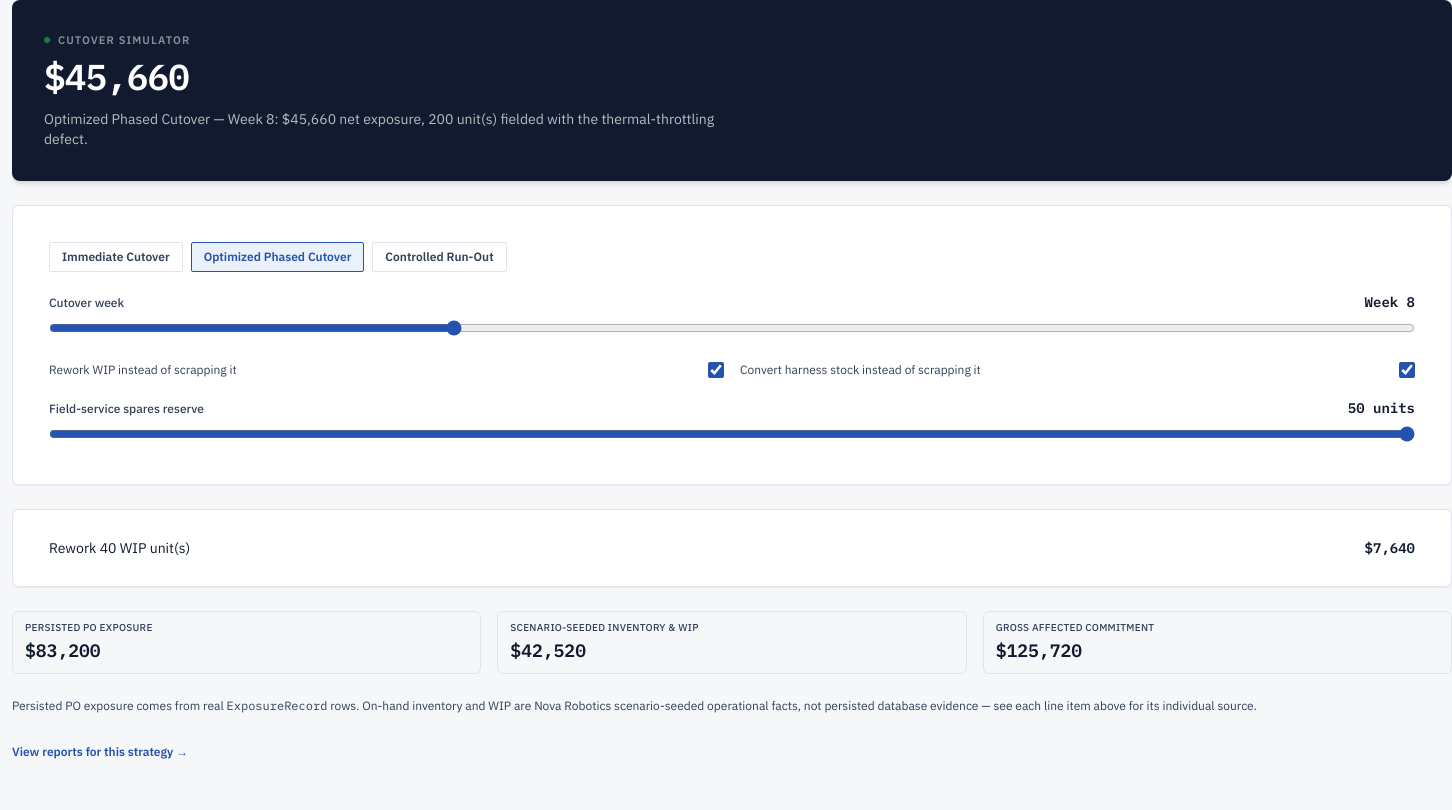
CutoverSimulatorClient › clears a prior error once a subsequent recalculation succeeds
Click the button "Immediate Cutover" at x=116, y=256, box [49, 242, 183, 272]
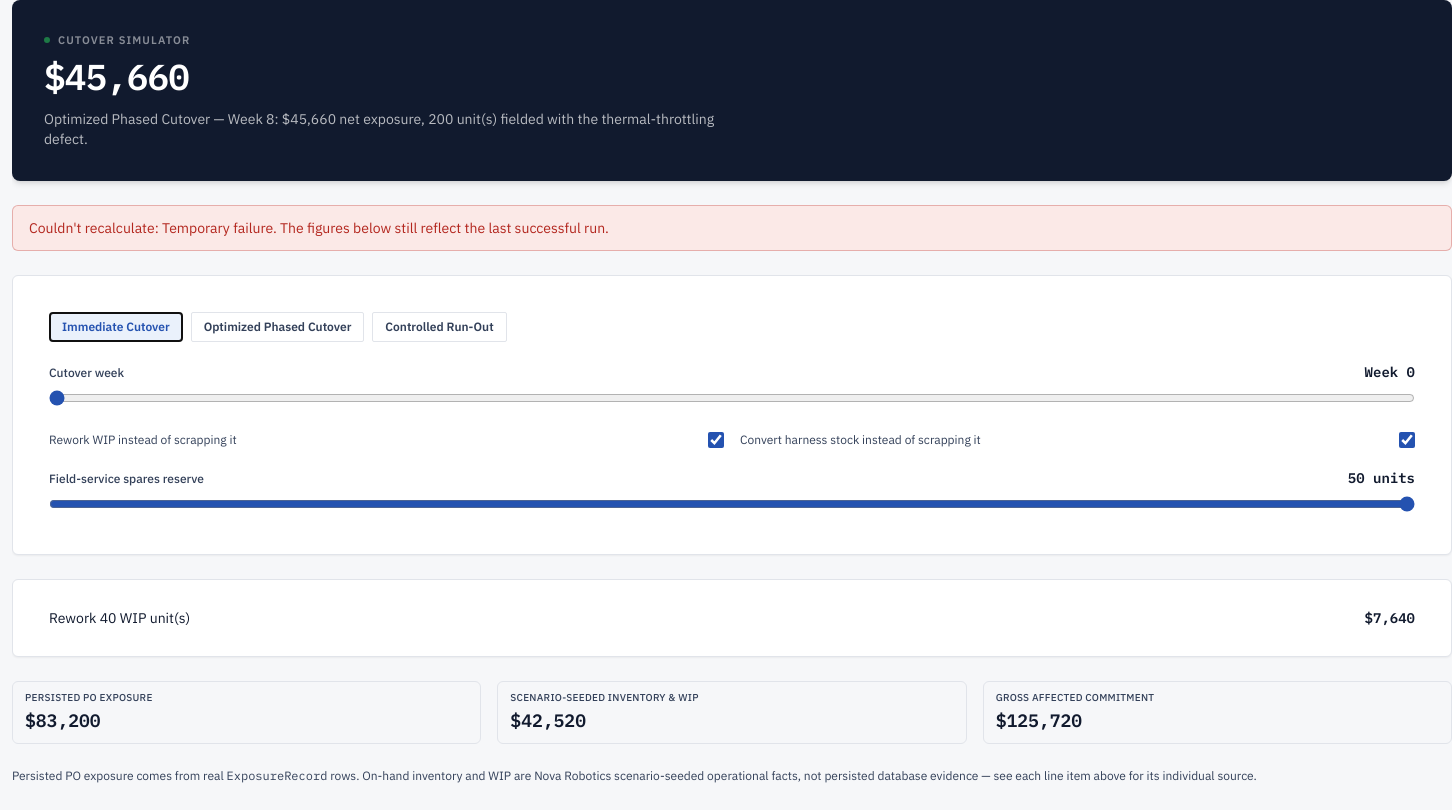
Expected: the text "Couldn't recalculate" is shown, [29, 218, 162, 236]
Click the button "Optimized Phased Cutover" at x=278, y=326, box [191, 312, 364, 342]
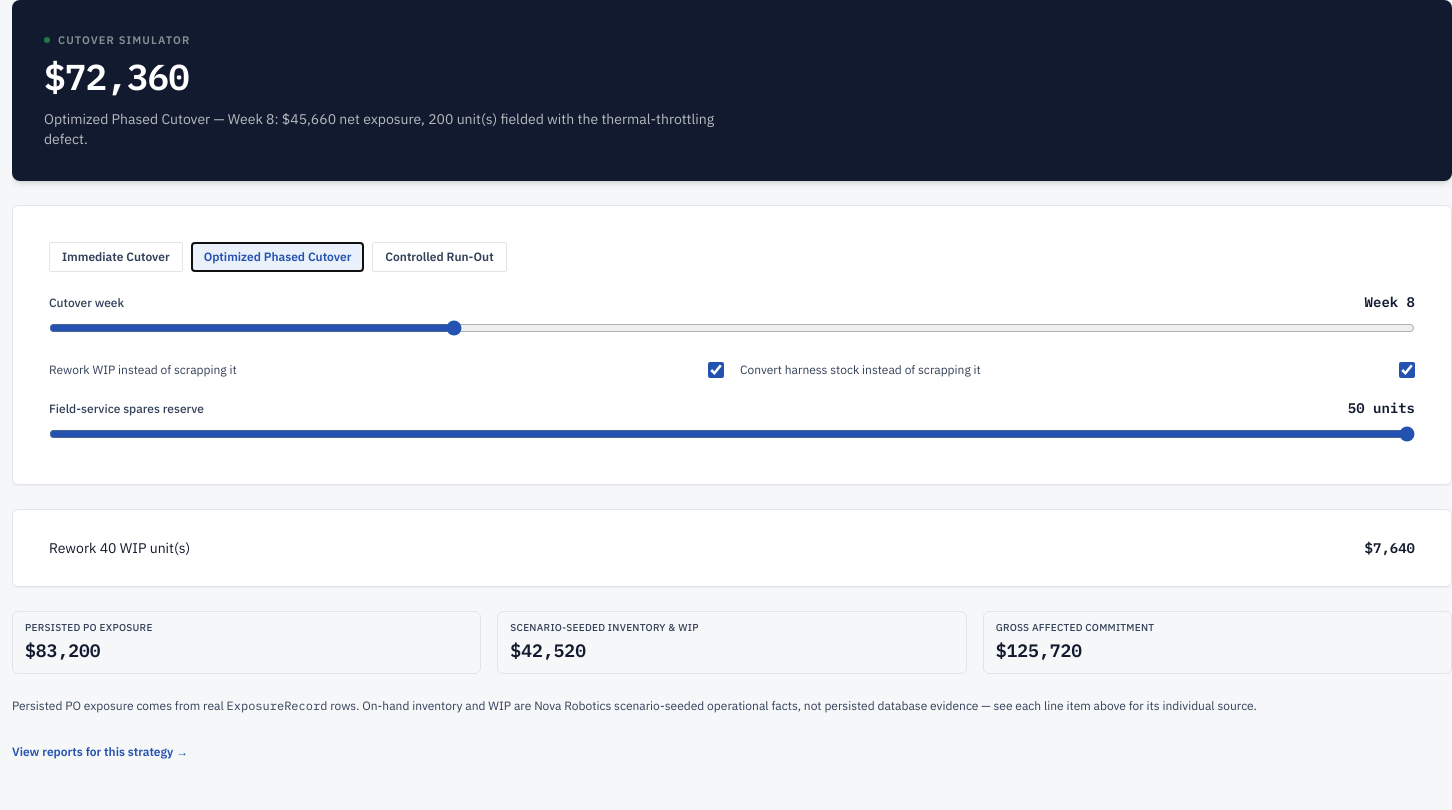
Expected: the text "Couldn't recalculate" is gone
Expected: the text "$72,360" is shown, [44, 52, 189, 100]
